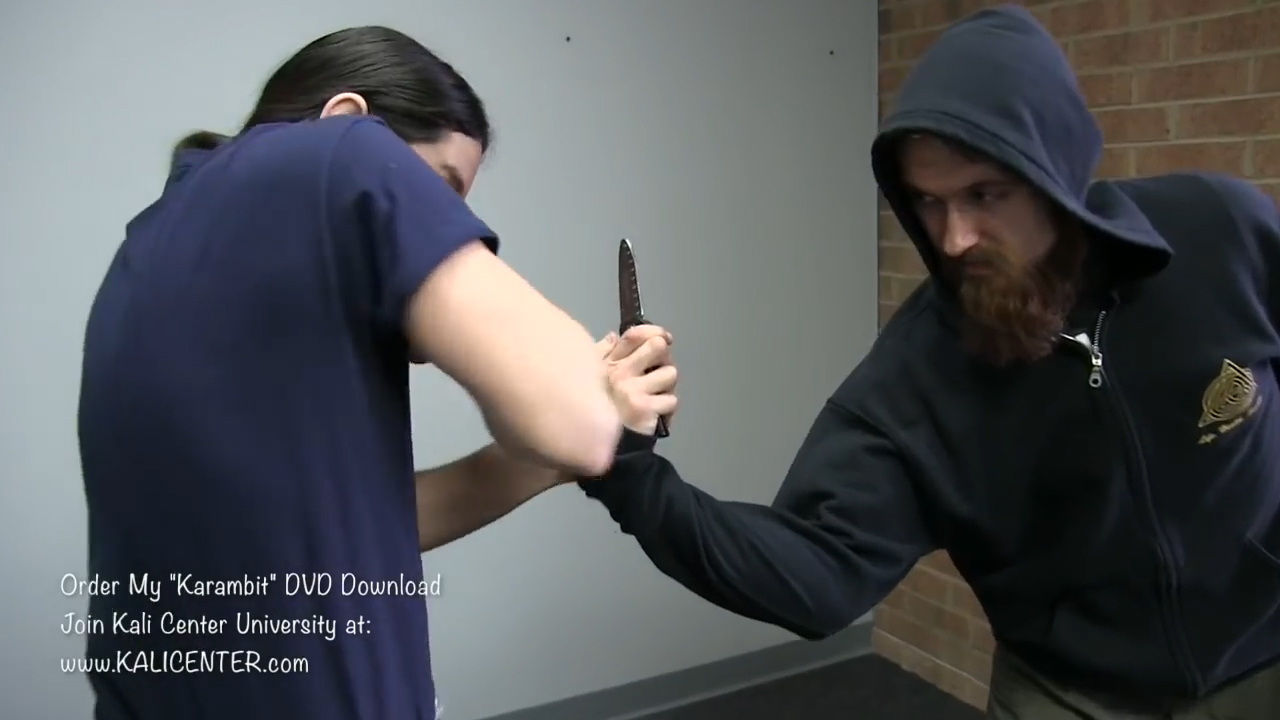knife: (600, 228, 683, 421)
